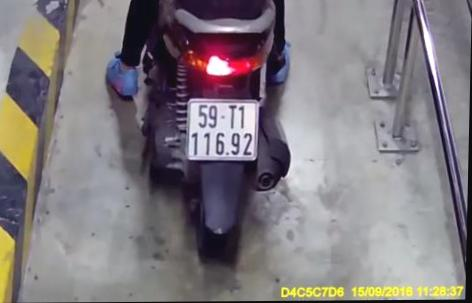License_Plate: (181, 94, 267, 168)
